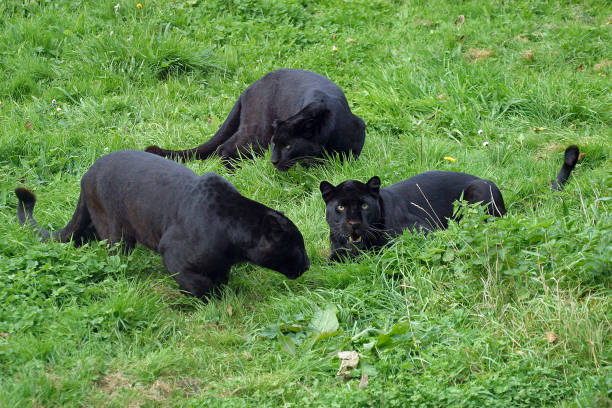panther: (310, 174, 394, 252)
